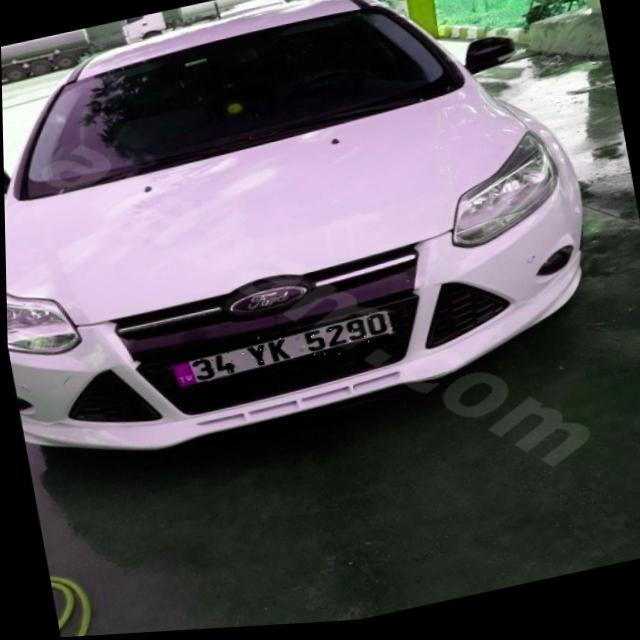license_plate: (166, 313, 395, 393)
